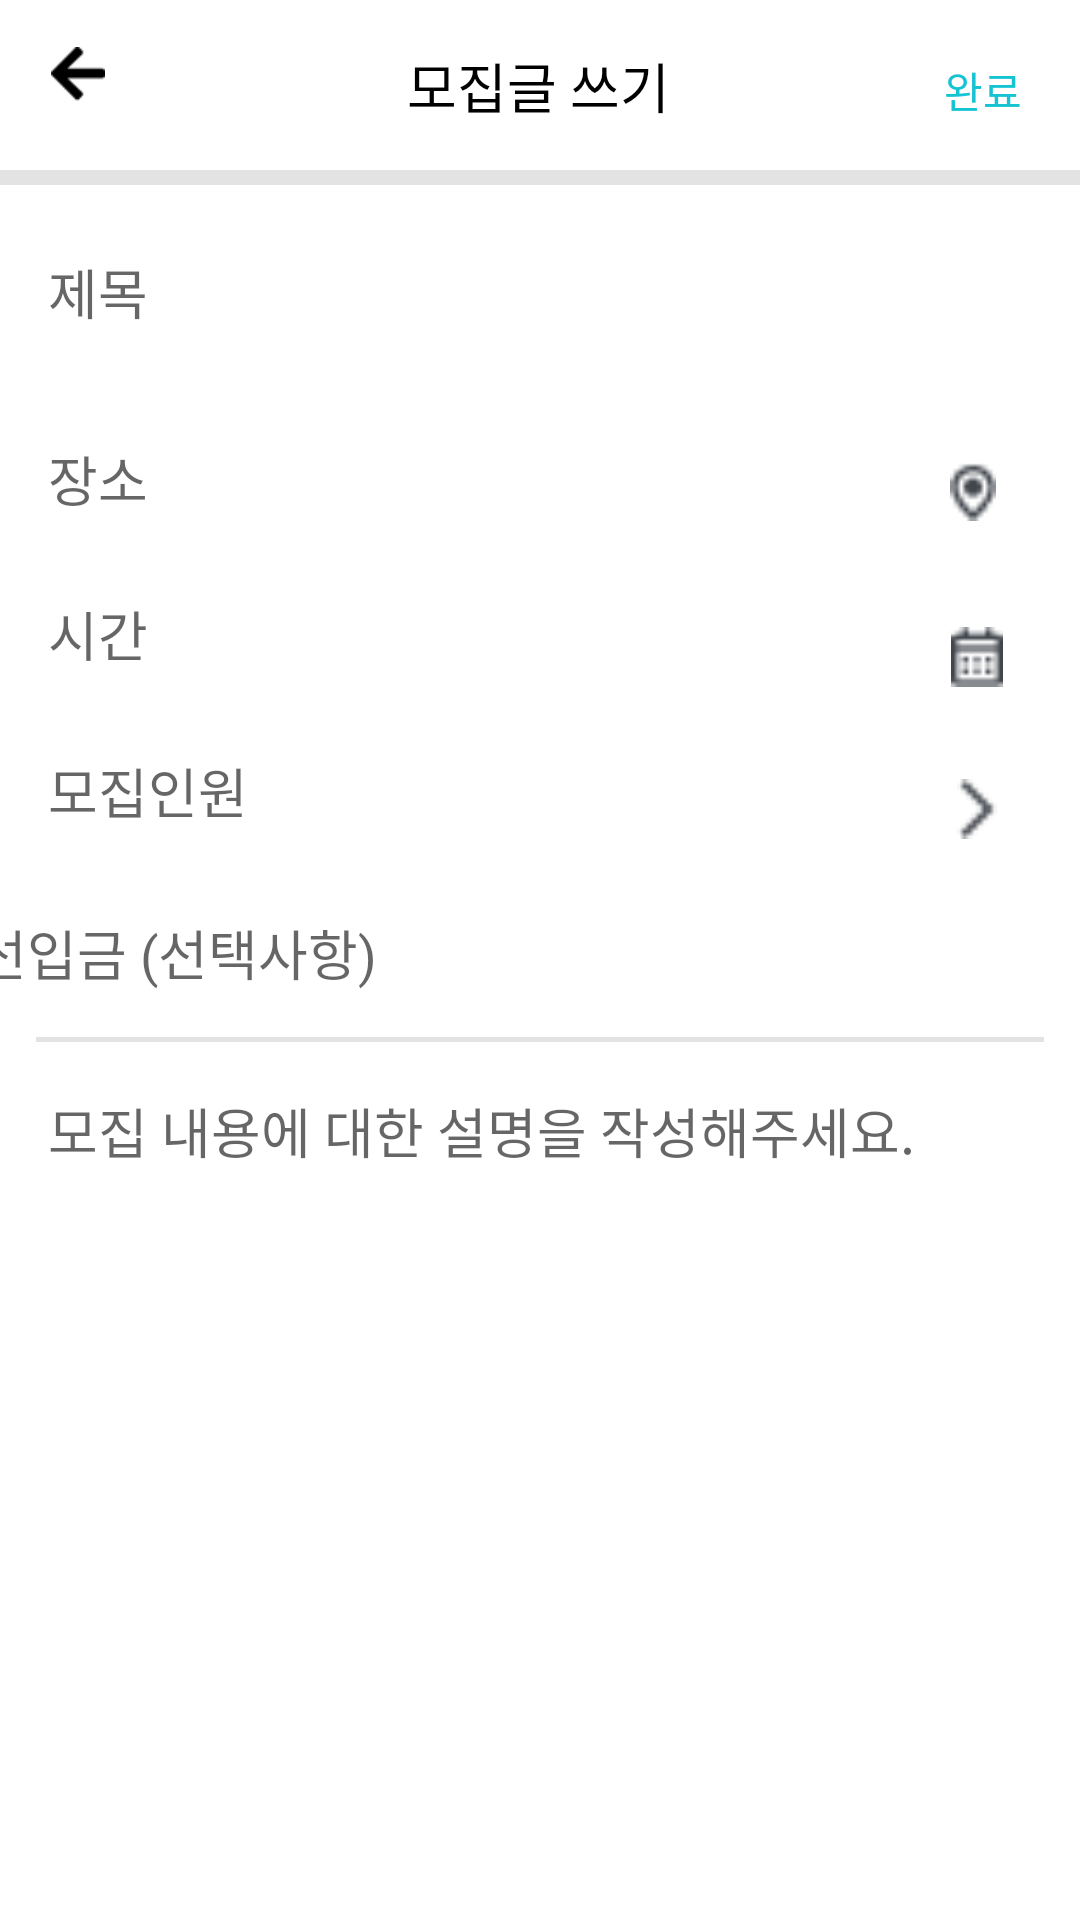

Icons on this 1080px×1920px Android screen, each with the point to tap as (x,y):
arrow left: (78,74)
calender: (977,657)
location: (973,492)
right arrow: (977,809)
